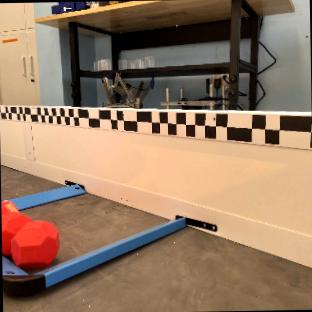V5_RED: (1, 201, 58, 269)
